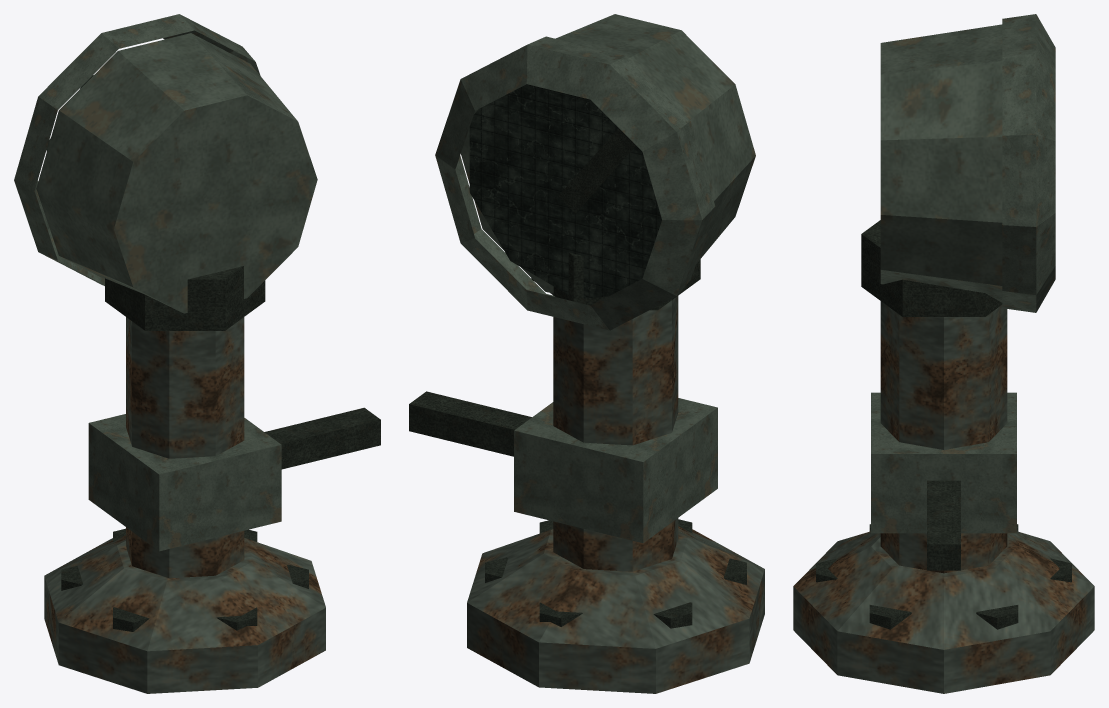
Rendered from SM_Pipe_Gauge.fbx.
3 views of the same model, side by side, from view 1: azimuth 30°, elevation 25°; view 2: azimuth 150°, elevation 25°; view 3: azimuth 270°, elevation 25° (orthographic). The views are drawn at different scales.
Parts seen in each view (by area): view 1: SM_Pipe_Gauge; view 2: SM_Pipe_Gauge; view 3: SM_Pipe_Gauge.
Boxes of the visible parts, left/top/right/bottom form: SM_Pipe_Gauge: left=14, top=14, right=380, bottom=693; SM_Pipe_Gauge: left=409, top=14, right=764, bottom=693; SM_Pipe_Gauge: left=793, top=14, right=1094, bottom=693.
Size of the model in its own units: 0.154 by 0.271 by 0.124.
